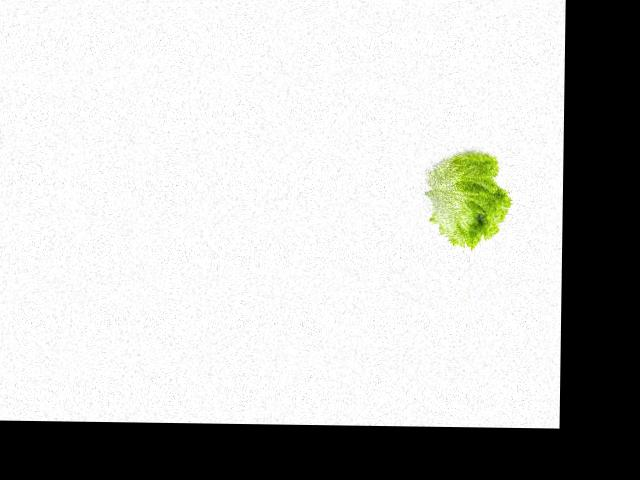lettuce: (422, 143, 508, 252)
